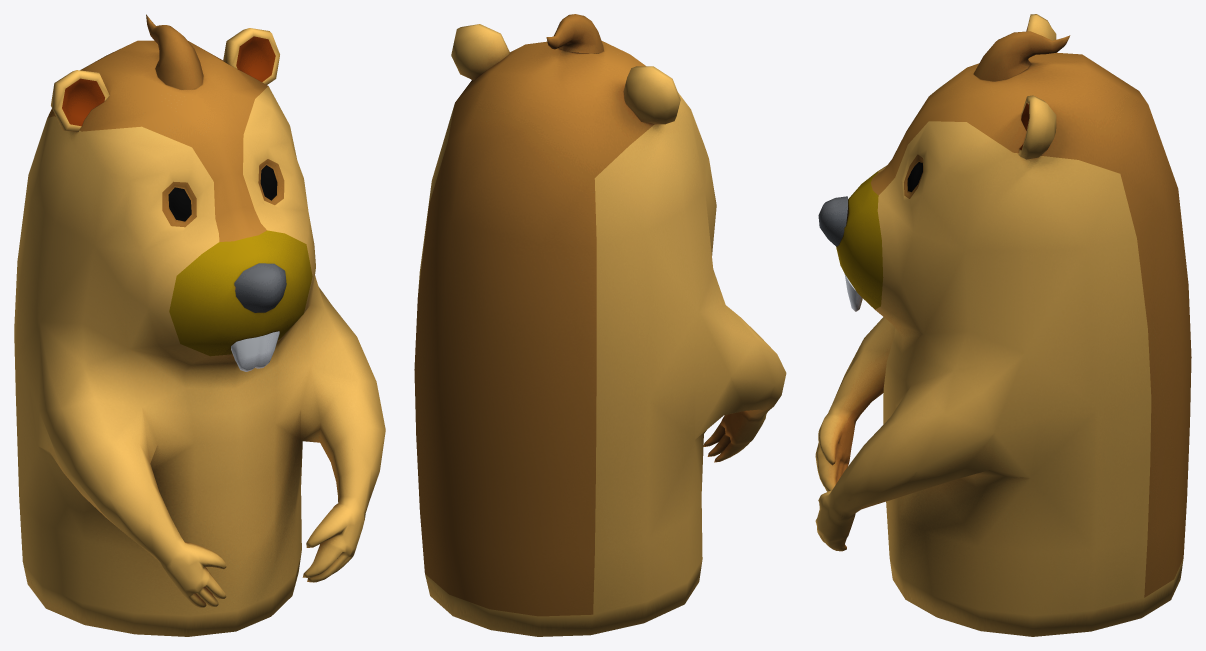
File: Groundhog.FBX
3 views of the same model, side by side, from view 1: azimuth 30°, elevation 25°; view 2: azimuth 150°, elevation 25°; view 3: azimuth 270°, elevation 25° (orthographic).
Visible parts, largest first — view 1: Groundhog; view 2: Groundhog; view 3: Groundhog.
Part boxes in pixels (bbox=[...]): Groundhog: bbox=[14, 14, 385, 636]; Groundhog: bbox=[414, 14, 786, 636]; Groundhog: bbox=[815, 14, 1191, 636].
Size of the model in its own units: 16.38 by 28.58 by 17.69.
